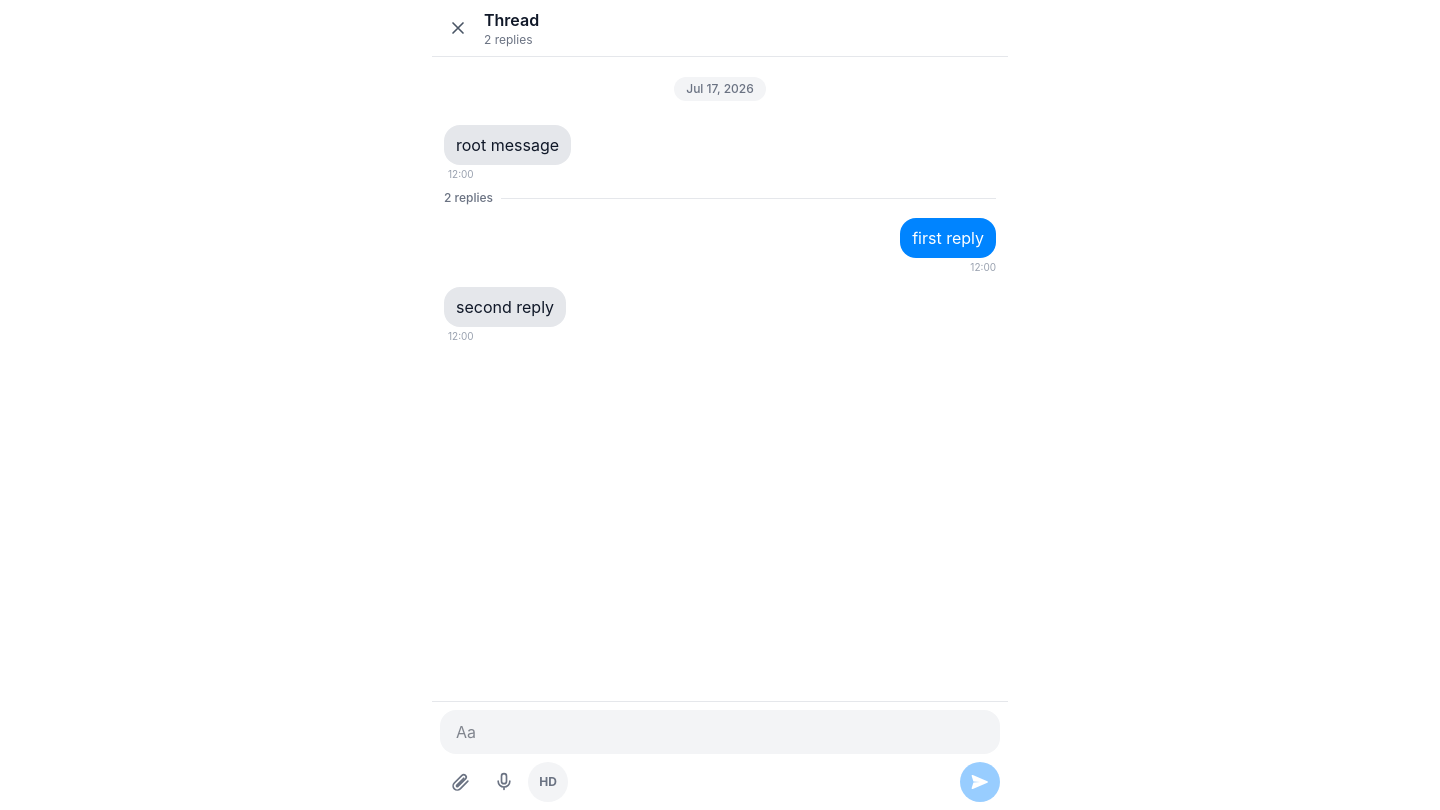
Test: ThreadView › sends composer text as a reply to the thread ROOT and shows it immediately
expect the text "second reply" is shown: met, box [456, 295, 554, 319]
In the text box: (720, 732) [440, 710, 1000, 754], type "a fresh thread reply"
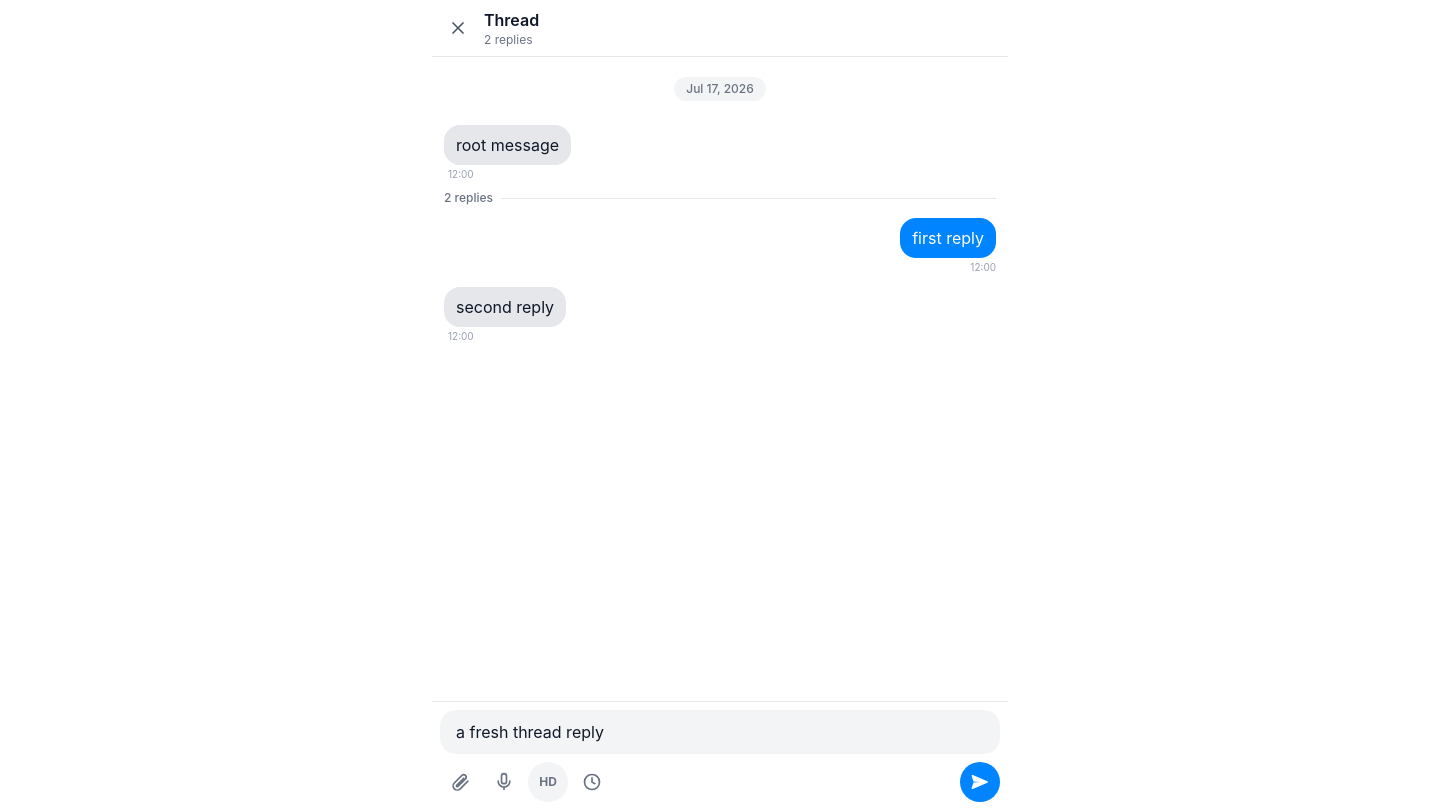
Click the button named "Send": (980, 782) [960, 762, 1000, 802]
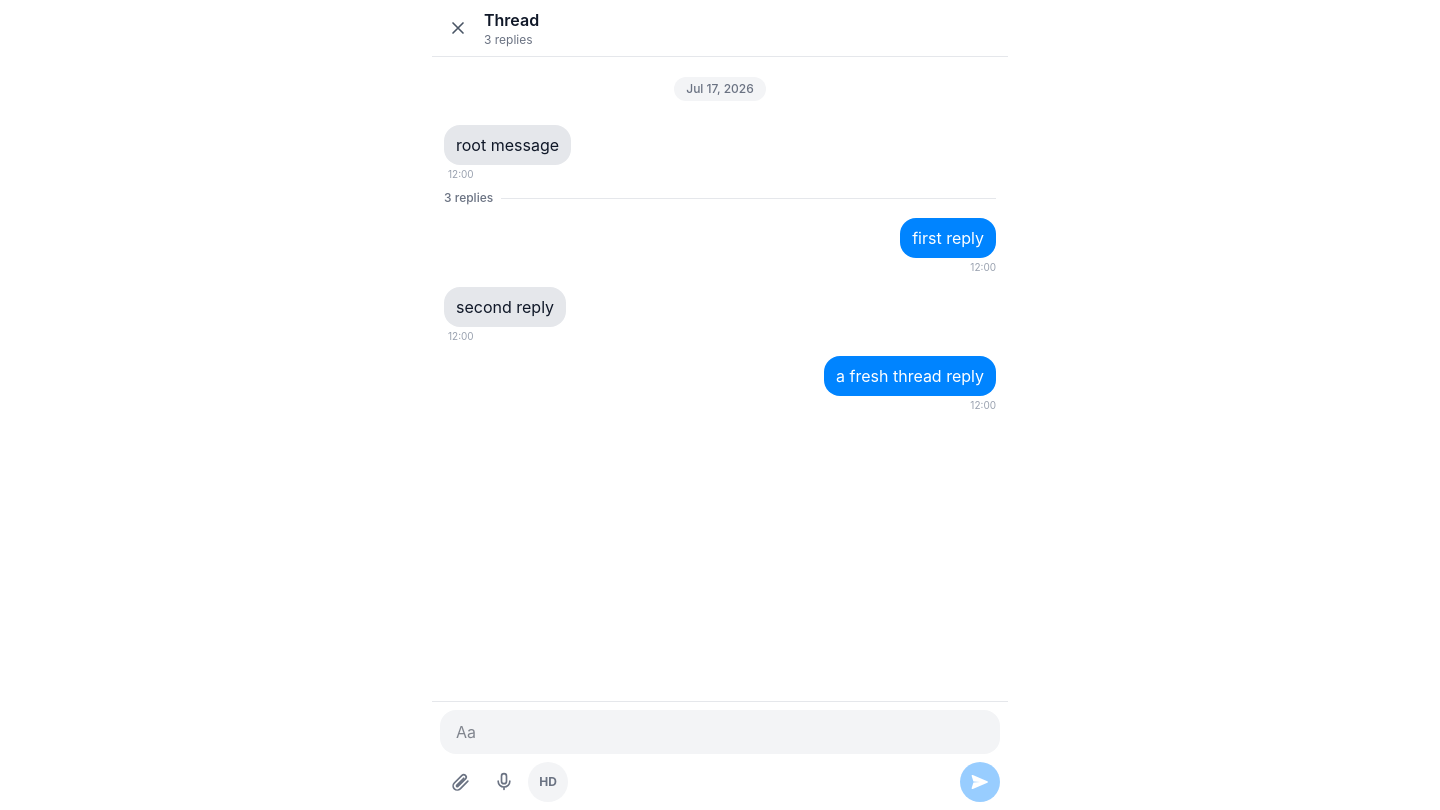
expect the text "a fresh thread reply" is shown: met, box [836, 364, 984, 388]
